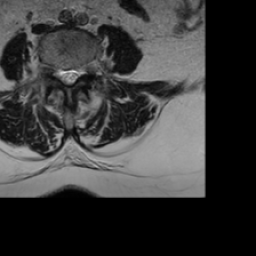CCS_stenosis: (64, 60, 72, 96)
LFS_normal: (79, 54, 88, 83)
LLS_normal: (72, 59, 79, 87)
RFS_normal: (49, 55, 57, 86)
RLS_normal: (57, 60, 64, 85)
